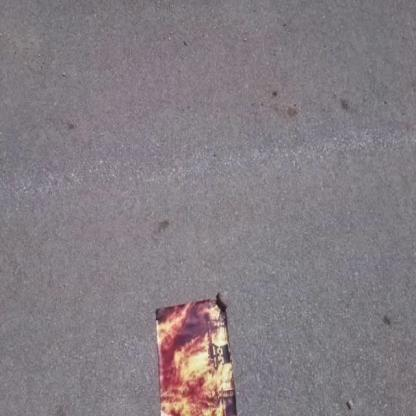fire-poster: (154, 291, 240, 415)
